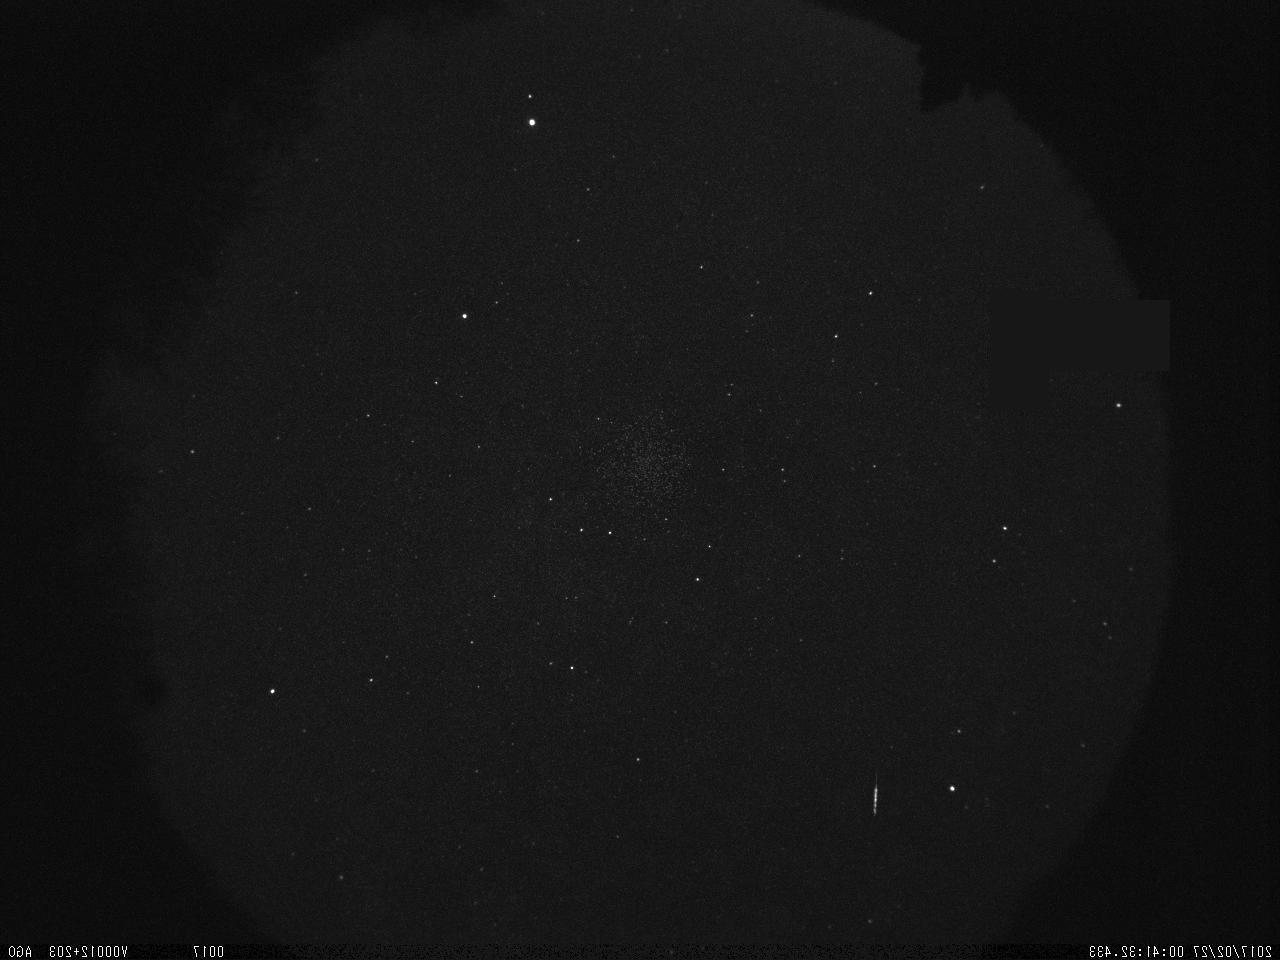meteor: (861, 760, 889, 825)
